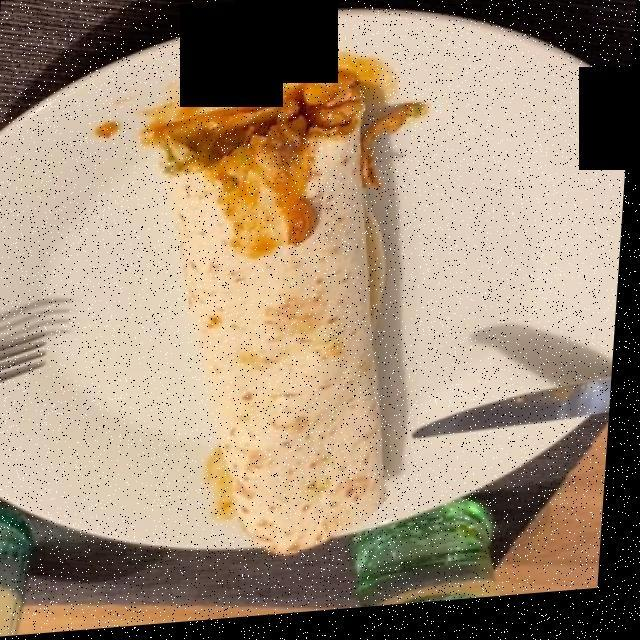bread: (158, 93, 397, 551)
